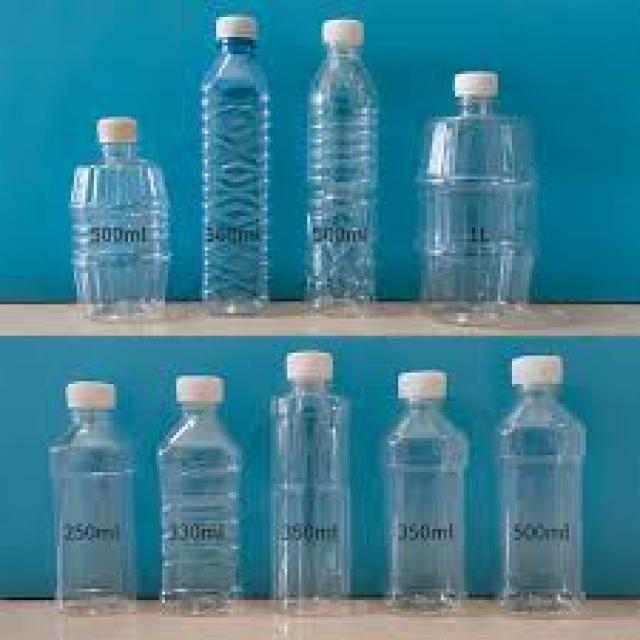Plastic: (417, 59, 538, 320), (195, 8, 278, 326), (265, 346, 358, 623), (298, 14, 380, 318), (495, 357, 586, 613), (69, 112, 174, 330), (49, 370, 138, 619), (156, 371, 240, 621), (387, 370, 465, 611)
